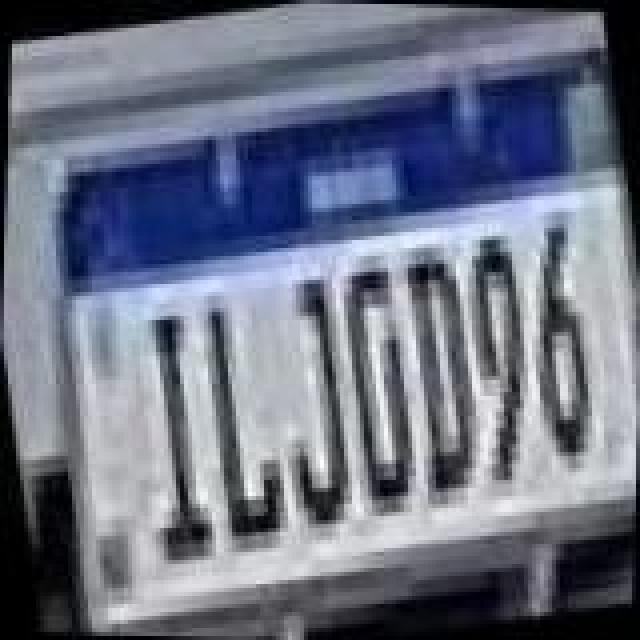6: (504, 202, 616, 470)
9: (442, 224, 554, 492)
D: (320, 252, 436, 520), (382, 238, 494, 506)
I: (116, 302, 228, 574)
J: (252, 270, 368, 538)
L: (182, 286, 298, 550)
